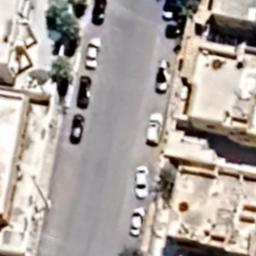SUV: (145, 112, 164, 144)
sedan: (84, 36, 102, 70), (77, 76, 92, 109), (135, 165, 149, 199), (129, 207, 144, 238), (70, 114, 84, 144), (91, 0, 107, 26), (162, 0, 178, 22)
unknown: (155, 59, 172, 93)
